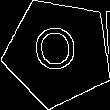O_S: (33, 24, 84, 81)
